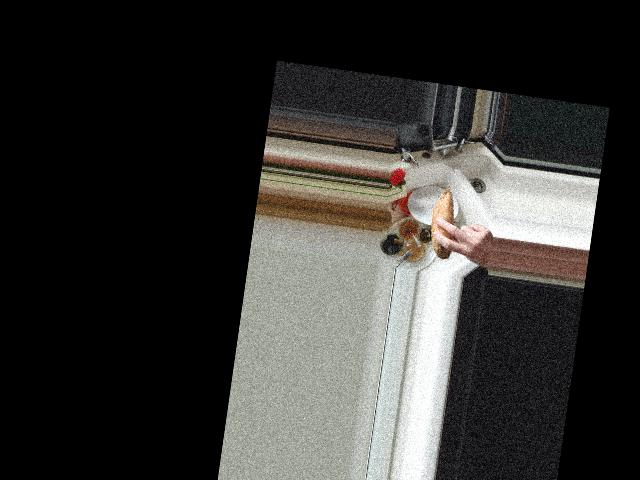sweet_potato: (427, 181, 464, 263)
